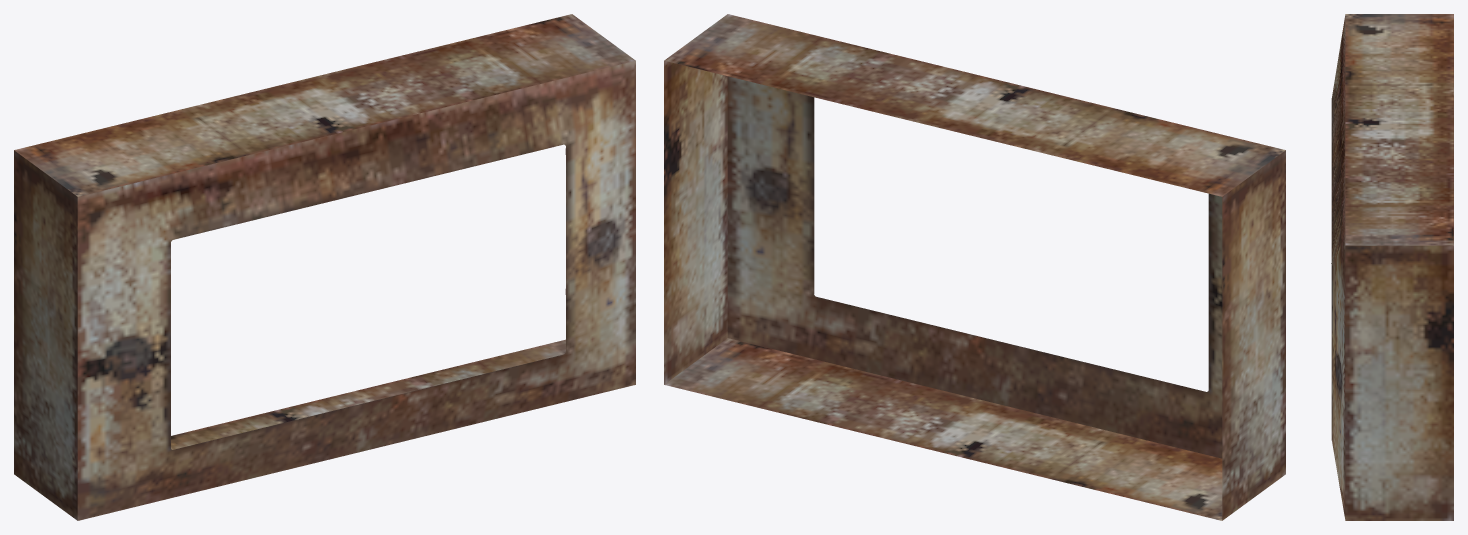
The model's file is sm35_010_footlight01a.fbx.
The picture shows the model from 3 angles, left to right: view 1: azimuth 30°, elevation 25°; view 2: azimuth 150°, elevation 25°; view 3: azimuth 270°, elevation 25°; orthographic projection. The views are drawn at different scales.
Parts seen in each view (by area): view 1: LOD_1_Group_0_Sub_1__sm35_010_FootLight01A_A_Mat; view 2: LOD_1_Group_0_Sub_1__sm35_010_FootLight01A_A_Mat; view 3: LOD_1_Group_0_Sub_1__sm35_010_FootLight01A_A_Mat.
Boxes of the visible parts, box(x1,y1,x2,y2) form: LOD_1_Group_0_Sub_1__sm35_010_FootLight01A_A_Mat: box(14, 14, 635, 520); LOD_1_Group_0_Sub_1__sm35_010_FootLight01A_A_Mat: box(664, 14, 1285, 520); LOD_1_Group_0_Sub_1__sm35_010_FootLight01A_A_Mat: box(1331, 14, 1453, 520).
Bounding box in the file's own units: 0.2951 × 0.1637 × 0.0753.
